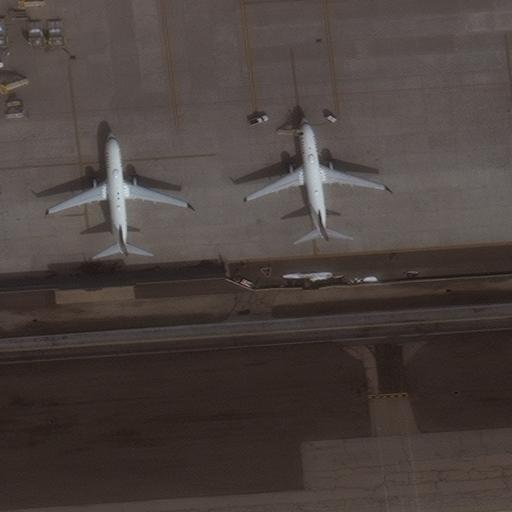Medium Civil Transport: (46, 130, 190, 254), (243, 115, 386, 239)
